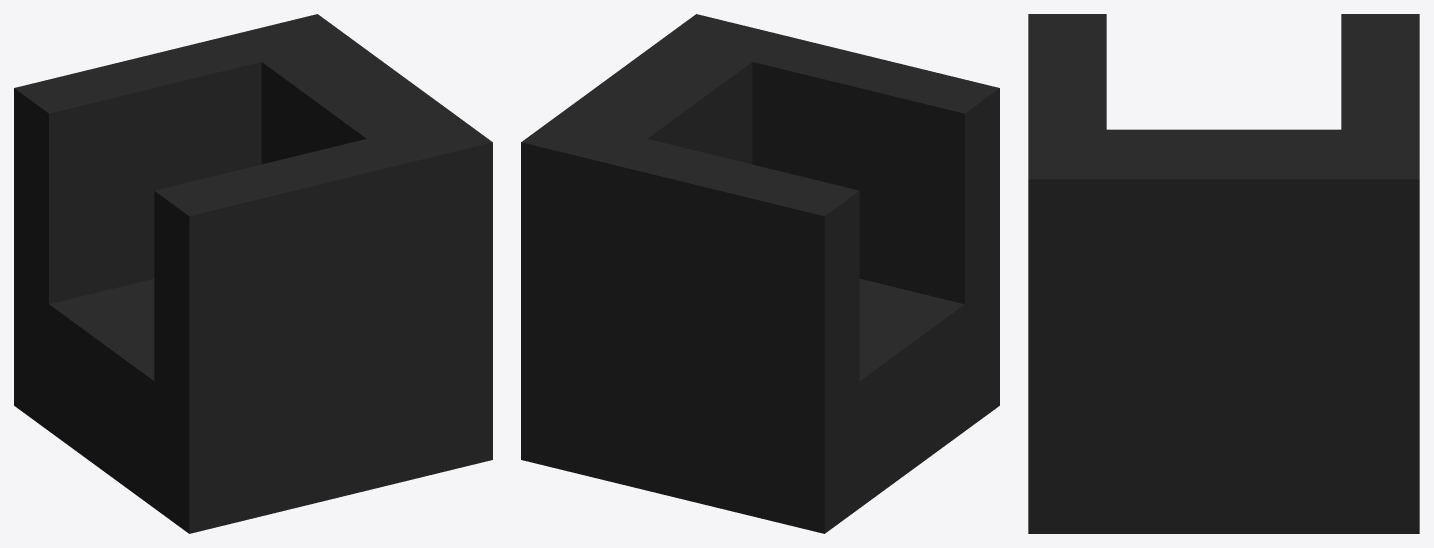
The model's file is armchair.obj.
The picture shows the model from 3 angles, left to right: view 1: azimuth 30°, elevation 25°; view 2: azimuth 150°, elevation 25°; view 3: azimuth 270°, elevation 25°; orthographic projection. The views are drawn at different scales.
Parts seen in each view (by area): view 1: armchair; view 2: armchair; view 3: armchair.
Part boxes in pixels (x1=…): armchair: x1=14, y1=14, x2=492, y2=533; armchair: x1=521, y1=14, x2=999, y2=533; armchair: x1=1028, y1=14, x2=1419, y2=533.
Size of the model in its own units: 40 by 40 by 40.
